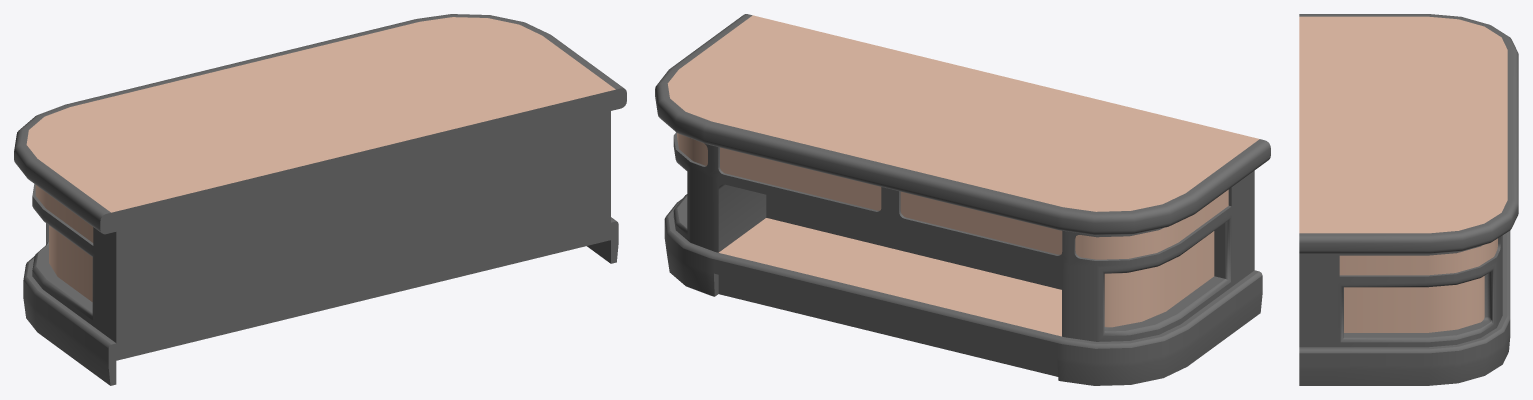
The model's file is Garage-Cabinet-2.fbx.
3 views of the same model, side by side, from view 1: azimuth 30°, elevation 25°; view 2: azimuth 150°, elevation 25°; view 3: azimuth 270°, elevation 25° (orthographic). The views are drawn at different scales.
Visible parts, largest first — view 1: Base Cabinet, Base Cabinet-Wood; view 2: Base Cabinet-Wood, Base Cabinet; view 3: Base Cabinet-Wood, Base Cabinet.
Part boxes in pixels (x1=…): Base Cabinet: x1=14, y1=14, x2=626, y2=385; Base Cabinet-Wood: x1=26, y1=17, x2=615, y2=301; Base Cabinet-Wood: x1=667, y1=15, x2=1259, y2=336; Base Cabinet: x1=655, y1=14, x2=1270, y2=385; Base Cabinet-Wood: x1=1299, y1=16, x2=1507, y2=332; Base Cabinet: x1=1299, y1=14, x2=1518, y2=385.
Size of the model in its own units: 639 by 262 by 201.
